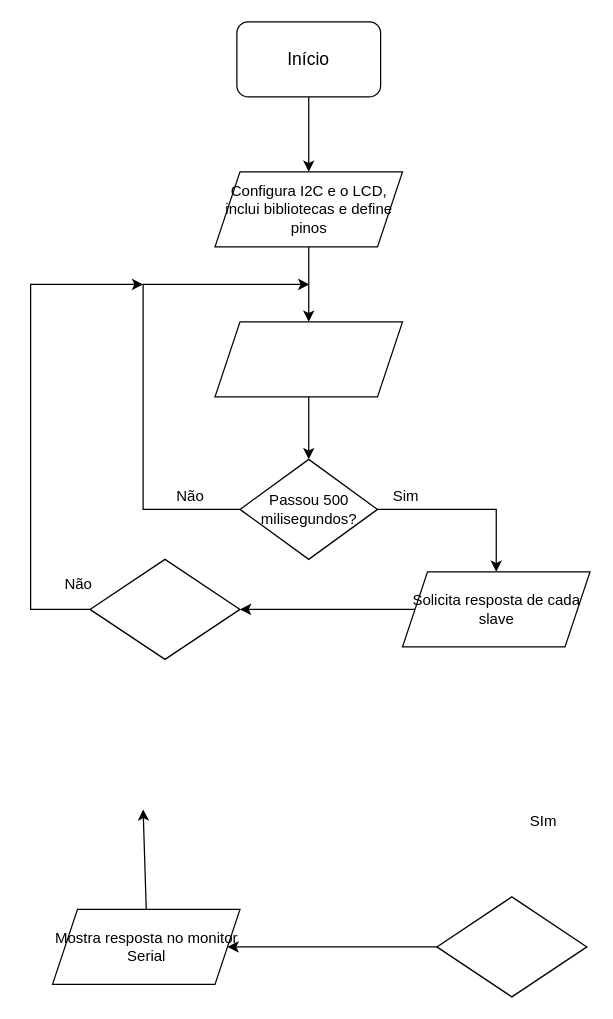
This 613x1019 diagram has some shape labels left out. Each missing label, with the centre of its shape:
A resposta foi "1"?: pixel 511 946
Algum slave respondeu?: pixel 164 608
Atualiza o tempo: pixel 308 359
